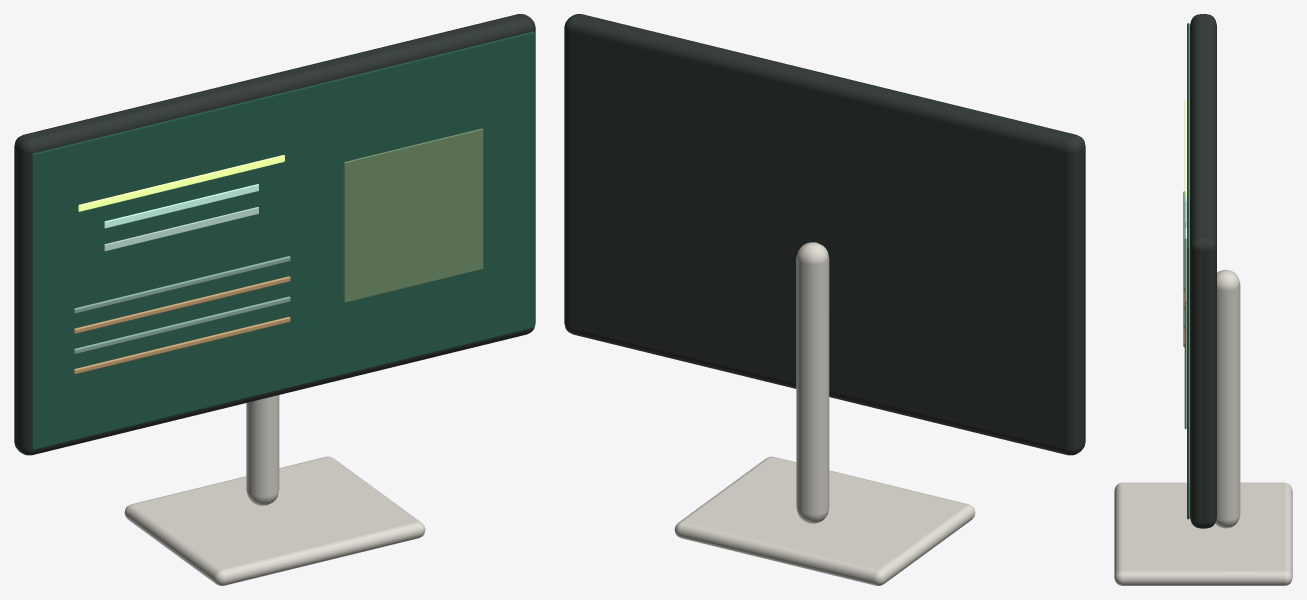
The model's file is monitor-27.glb.
3 renders of one model, left to right at view 1: azimuth 30°, elevation 25°; view 2: azimuth 150°, elevation 25°; view 3: azimuth 270°, elevation 25°, orthographic. The views are drawn at different scales.
Visible parts, largest first — view 1: active-screen, monitor-27; view 2: monitor-27; view 3: monitor-27, active-screen.
Boxes of the visible parts, left/top/right/bottom form: active-screen: left=31, top=31, right=534, bottom=449; monitor-27: left=14, top=14, right=535, bottom=585; monitor-27: left=564, top=14, right=1085, bottom=585; monitor-27: left=1114, top=14, right=1292, bottom=585; active-screen: left=1187, top=23, right=1189, bottom=519.
Size of the model in its own units: 0.6129 by 0.5149 by 0.2.
